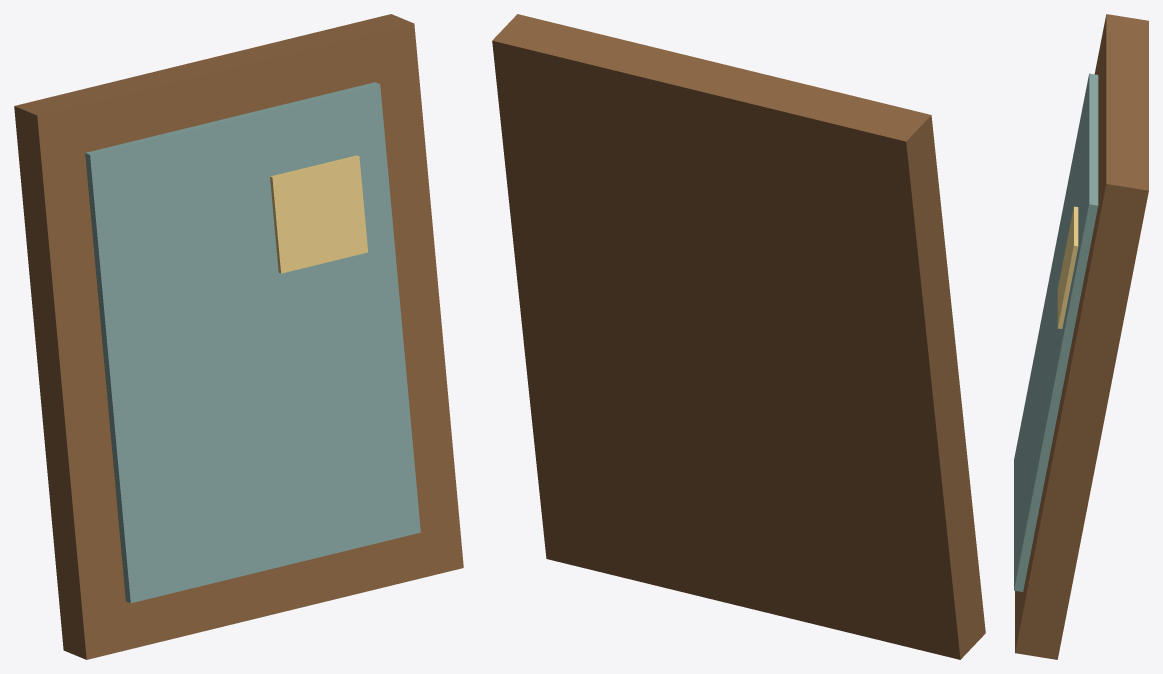
File: photo_frame.glb
The picture shows the model from 3 angles, left to right: view 1: azimuth 30°, elevation 25°; view 2: azimuth 150°, elevation 25°; view 3: azimuth 270°, elevation 25°; orthographic projection. The views are drawn at different scales.
Visible parts, largest first — view 1: Part1, Part0, Part2; view 2: Part0; view 3: Part0, Part1, Part2.
Boxes of the visible parts, left/top/right/bottom form: Part1: left=85, top=82, right=420, bottom=603; Part0: left=14, top=14, right=463, bottom=659; Part2: left=270, top=155, right=367, bottom=273; Part0: left=492, top=14, right=985, bottom=659; Part0: left=1015, top=14, right=1148, bottom=659; Part1: left=1014, top=73, right=1098, bottom=591; Part2: left=1057, top=206, right=1078, bottom=328.
Size of the model in its own units: 0.13 by 0.1698 by 0.0436.
